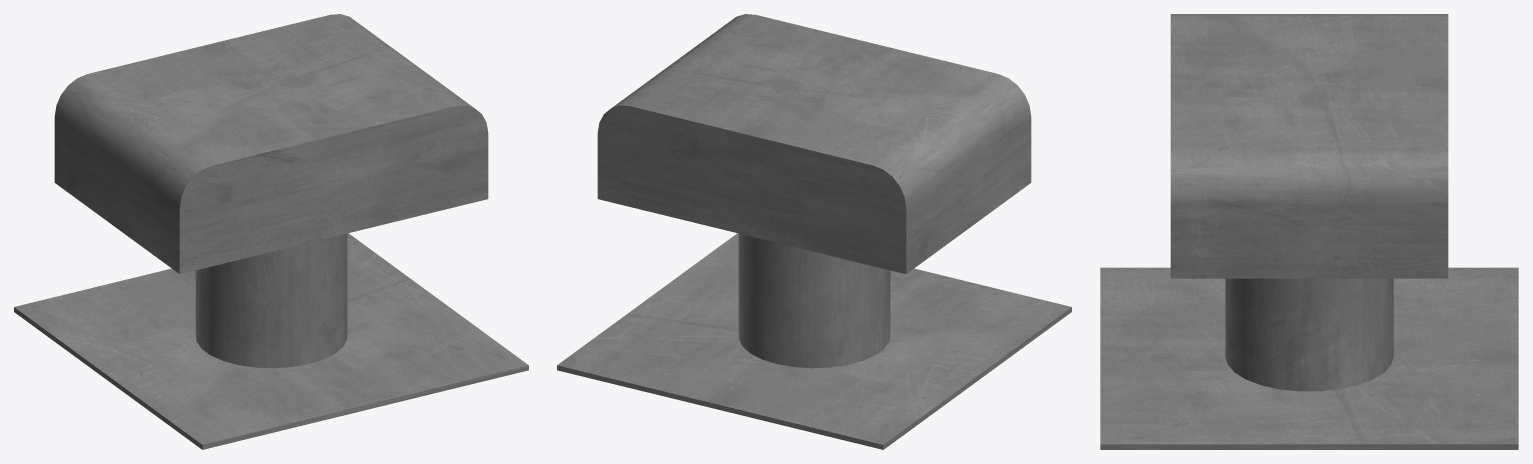
The model's file is roof_chimney.fbx.
3 views of the same model, side by side, from view 1: azimuth 30°, elevation 25°; view 2: azimuth 150°, elevation 25°; view 3: azimuth 270°, elevation 25° (orthographic). The views are drawn at different scales.
Parts seen in each view (by area): view 1: Cube.130; view 2: Cube.130; view 3: Cube.130.
Boxes of the visible parts, <box> form: Cube.130: <box>14,14,528,449</box>; Cube.130: <box>557,14,1071,449</box>; Cube.130: <box>1100,14,1518,449</box>.
Size of the model in its own units: 85.32 by 62.7 by 85.32.
